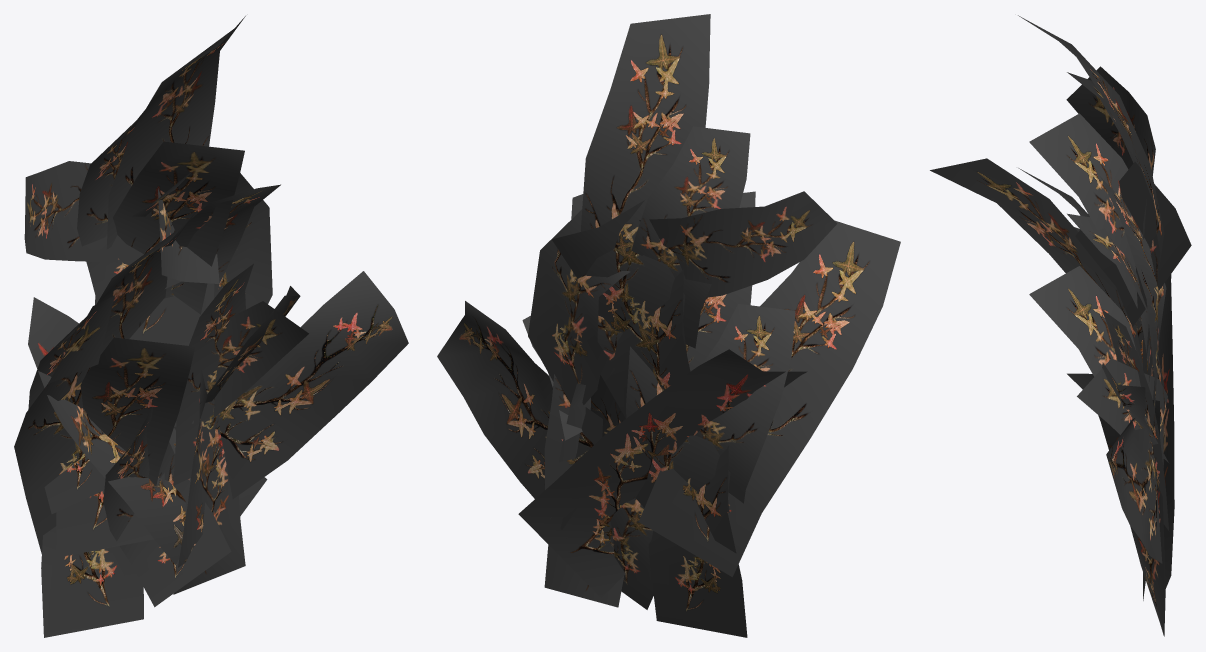
The model's file is ivy14_lod0.fbx.
The picture shows the model from 3 angles, left to right: view 1: azimuth 30°, elevation 25°; view 2: azimuth 150°, elevation 25°; view 3: azimuth 270°, elevation 25°; orthographic projection. The views are drawn at different scales.
Visible parts, largest first — view 1: Mesh Object; view 2: Mesh Object; view 3: Mesh Object.
Boxes of the visible parts, x1,y1,x2,y2 form: Mesh Object: [14, 16, 408, 637]; Mesh Object: [437, 14, 900, 637]; Mesh Object: [930, 15, 1191, 636].
Bounding box in the file's own units: 1.24 × 1.72 × 0.6892.
